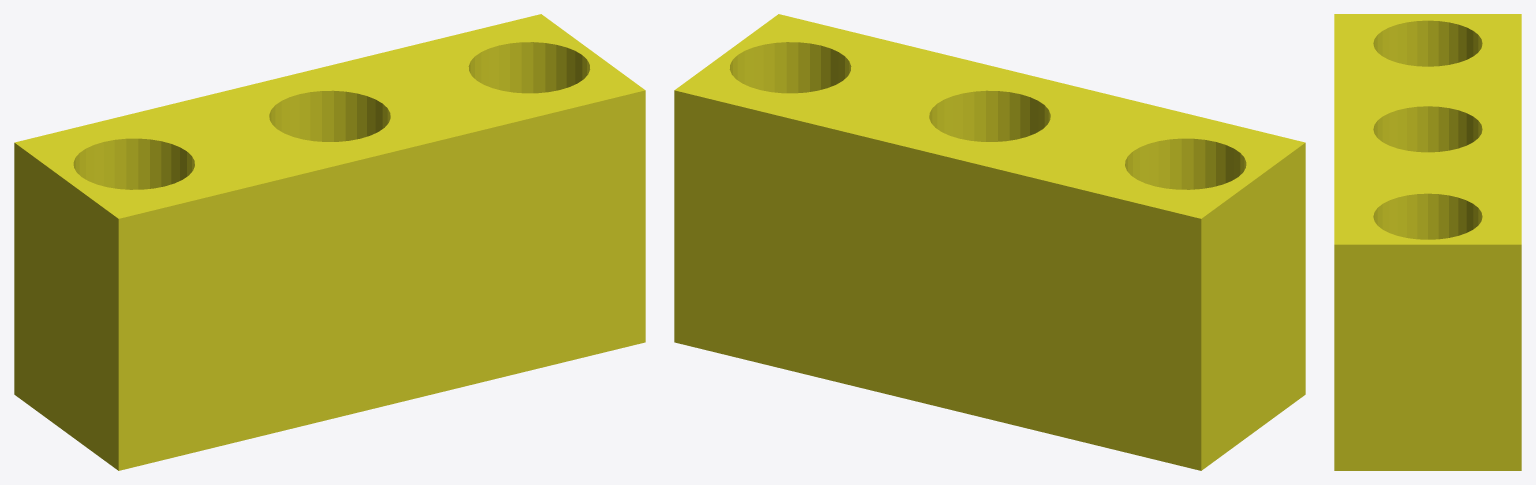
3 views of the same model, side by side, from view 1: azimuth 30°, elevation 25°; view 2: azimuth 150°, elevation 25°; view 3: azimuth 270°, elevation 25° (orthographic). The views are drawn at different scales.
Parts seen in each view (by area): view 1: Cube.007; view 2: Cube.007; view 3: Cube.007.
Part boxes in pixels (<box>): Cube.007: <box>14,14,645,470</box>; Cube.007: <box>674,14,1305,470</box>; Cube.007: <box>1334,14,1521,470</box>.
Size of the model in its own units: 0.35 by 0.16 by 0.12.
